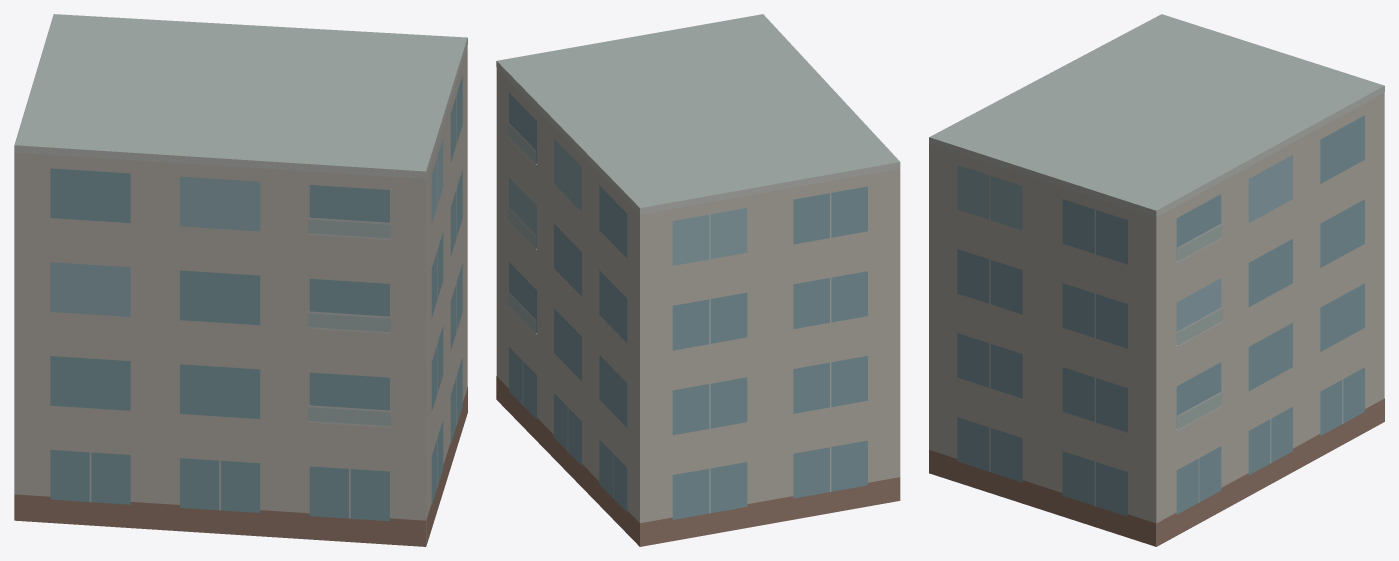
Rendered from survey-upis-32640462.glb.
3 views of the same model, side by side, from view 1: azimuth 30°, elevation 25°; view 2: azimuth 150°, elevation 25°; view 3: azimuth 270°, elevation 25° (orthographic). The views are drawn at different scales.
Parts seen in each view (by area): view 1: survey-upis-32640462.tmp; view 2: survey-upis-32640462.tmp; view 3: survey-upis-32640462.tmp.
Part boxes in pixels (x1,y1,x2,y2): survey-upis-32640462.tmp: (14,14,467,546); survey-upis-32640462.tmp: (496,14,900,546); survey-upis-32640462.tmp: (929,14,1384,546).
Bounding box in the file's own units: 15.58 × 12.4 × 15.25.
